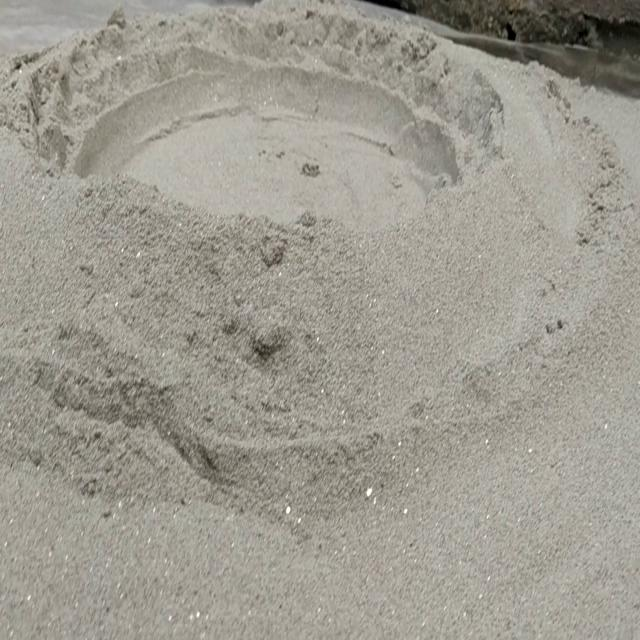C40: (74, 29, 464, 228)
